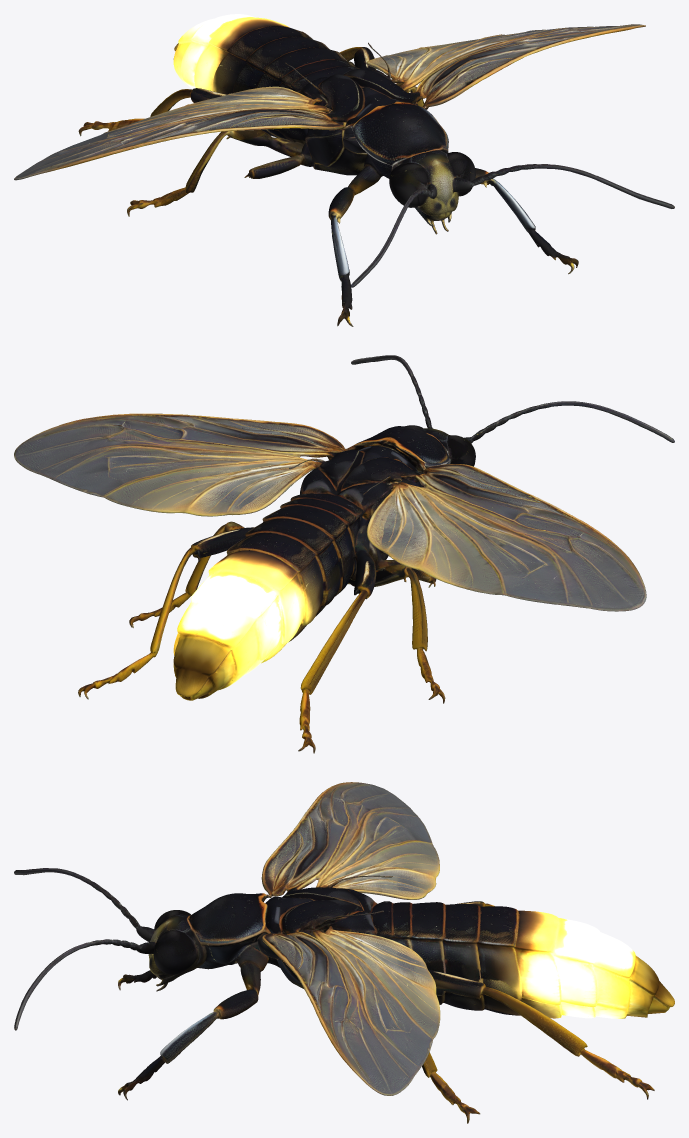
File: firefly.simple.glb
3 views of the same model, one above another, from view 1: azimuth 30°, elevation 25°; view 2: azimuth 150°, elevation 25°; view 3: azimuth 270°, elevation 25° (orthographic).
Bounding box in the file's own units: 1.9 × 0.4539 × 1.73.
1 material, 1 textured.
